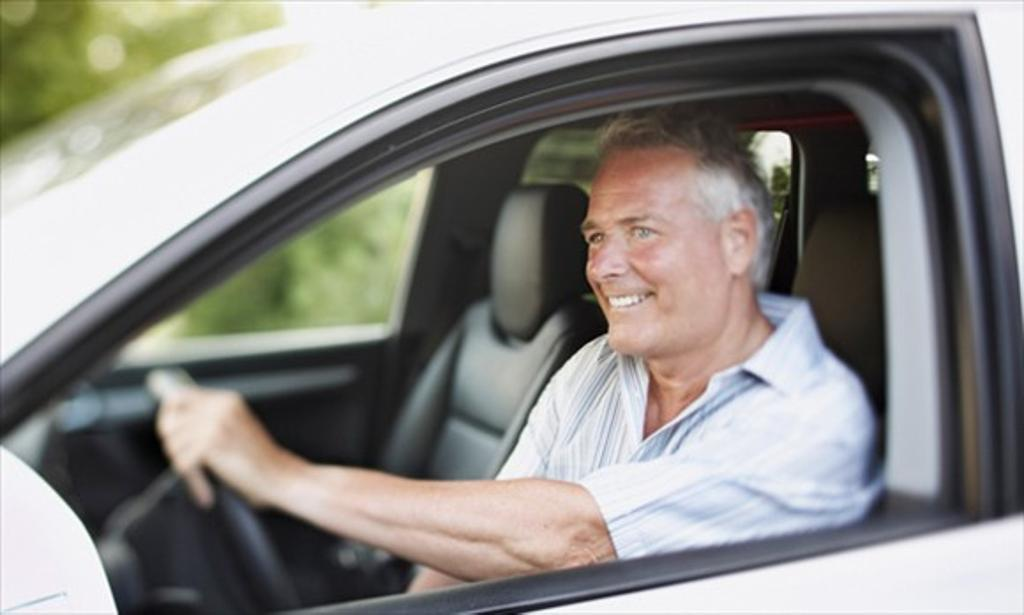face: (587, 147, 727, 351)
